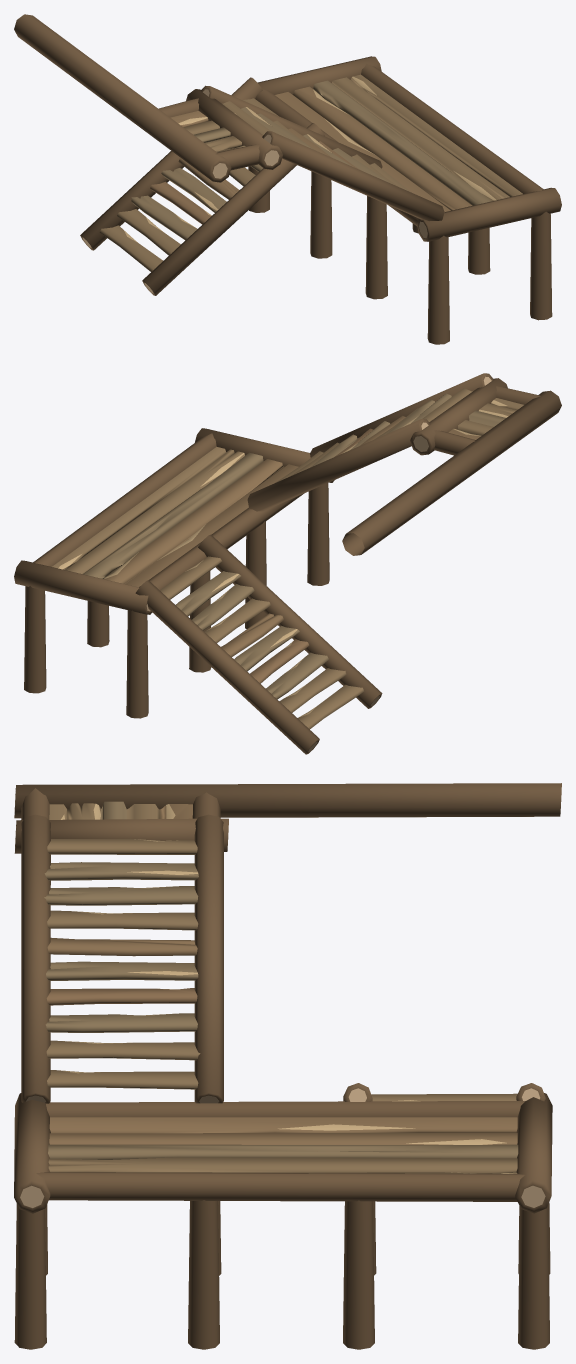
File: rpgpp_ag_stairs_interior_02d_4m.fbx
3 views of the same model, one above another, from view 1: azimuth 30°, elevation 25°; view 2: azimuth 150°, elevation 25°; view 3: azimuth 270°, elevation 25° (orthographic). The views are drawn at different scales.
Visible parts, largest first — view 1: rpgpp_ag_stairs_interior_02d_4m; view 2: rpgpp_ag_stairs_interior_02d_4m; view 3: rpgpp_ag_stairs_interior_02d_4m.
Boxes of the visible parts, x1,y1,x2,y2 form: rpgpp_ag_stairs_interior_02d_4m: (14, 14, 561, 344); rpgpp_ag_stairs_interior_02d_4m: (14, 373, 561, 754); rpgpp_ag_stairs_interior_02d_4m: (14, 783, 561, 1349).
Bounding box in the file's own units: 6.25 × 4.19 × 6.01.
